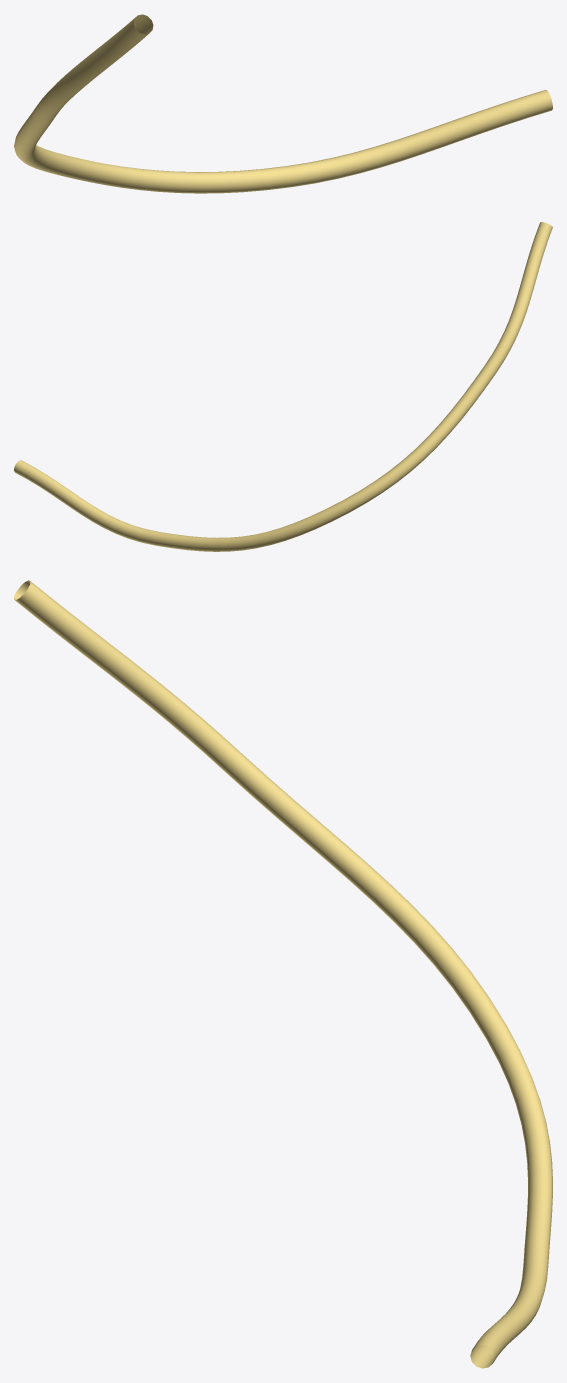
The picture shows the model from 3 angles, top to bottom: view 1: azimuth 30°, elevation 25°; view 2: azimuth 150°, elevation 25°; view 3: azimuth 270°, elevation 25°; orthographic projection. The views are drawn at different scales.
Parts seen in each view (by area): view 1: ZA_5cd0c50808bb602e; view 2: ZA_5cd0c50808bb602e; view 3: ZA_5cd0c50808bb602e.
Boxes of the visible parts, x1,y1,x2,y2 form: ZA_5cd0c50808bb602e: (14,14,552,193); ZA_5cd0c50808bb602e: (14,222,552,551); ZA_5cd0c50808bb602e: (14,580,552,1368).
Size of the model in its own units: 0.0335 by 0.0215 by 0.0215.
